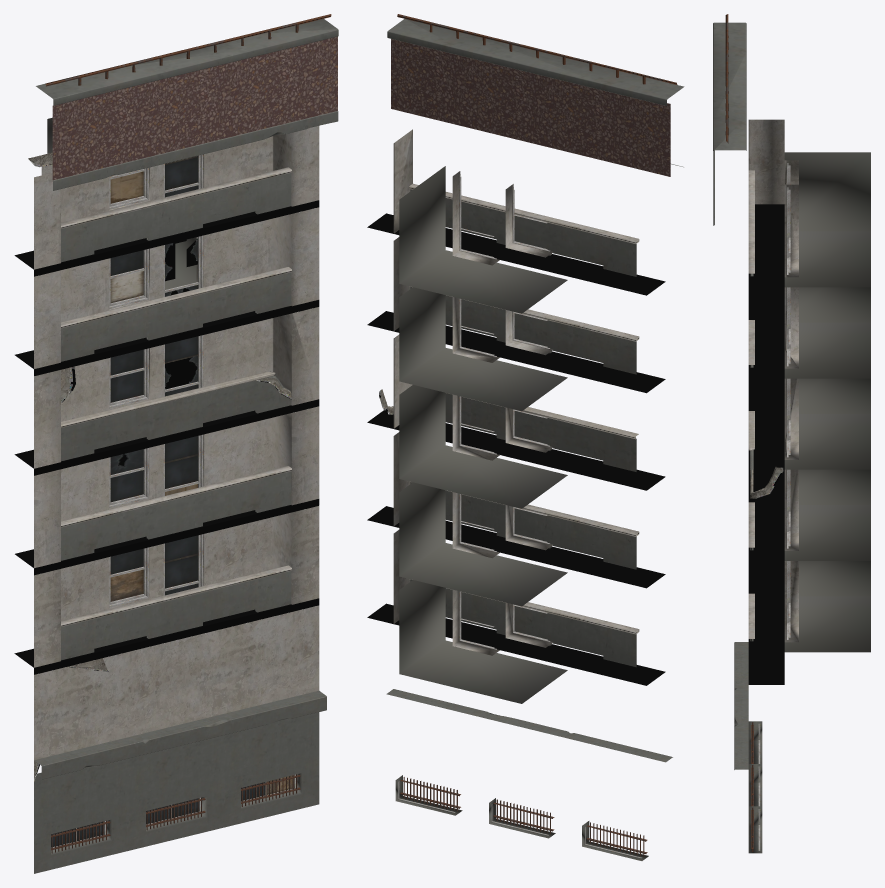
The model's file is apartments_complex_b_facade_e.glb.
3 renders of one model, left to right at view 1: azimuth 30°, elevation 25°; view 2: azimuth 150°, elevation 25°; view 3: azimuth 270°, elevation 25°, orthographic. The views are drawn at different scales.
Visible parts, largest first — view 1: apartments_complex_b_facade_e_LOD0; view 2: apartments_complex_b_facade_e_LOD0; view 3: apartments_complex_b_facade_e_LOD0.
Part boxes in pixels (<box>): apartments_complex_b_facade_e_LOD0: <box>14,14,338,873</box>; apartments_complex_b_facade_e_LOD0: <box>367,14,684,860</box>; apartments_complex_b_facade_e_LOD0: <box>713,14,870,853</box>.
Bounding box in the file's own units: 10.5 × 28.1 × 5.49.
6 materials, 6 textured.
